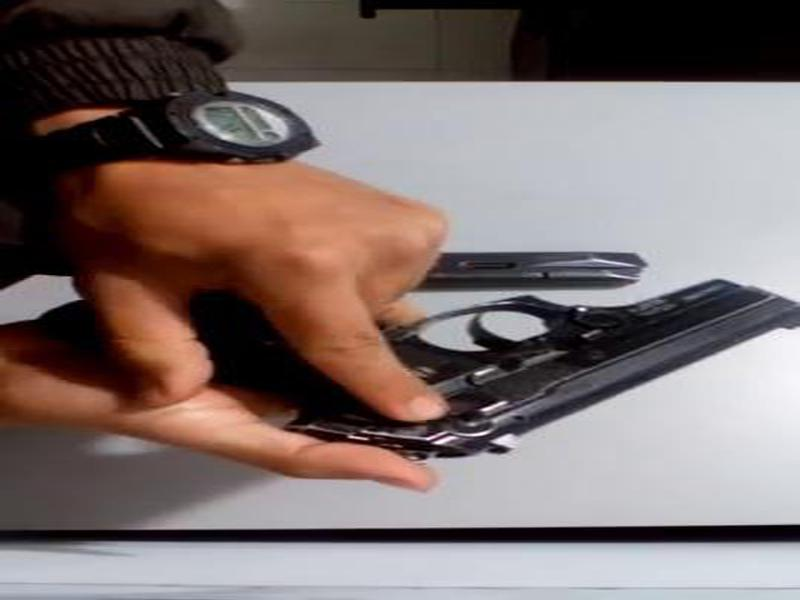Pistola: (312, 246, 800, 486)
